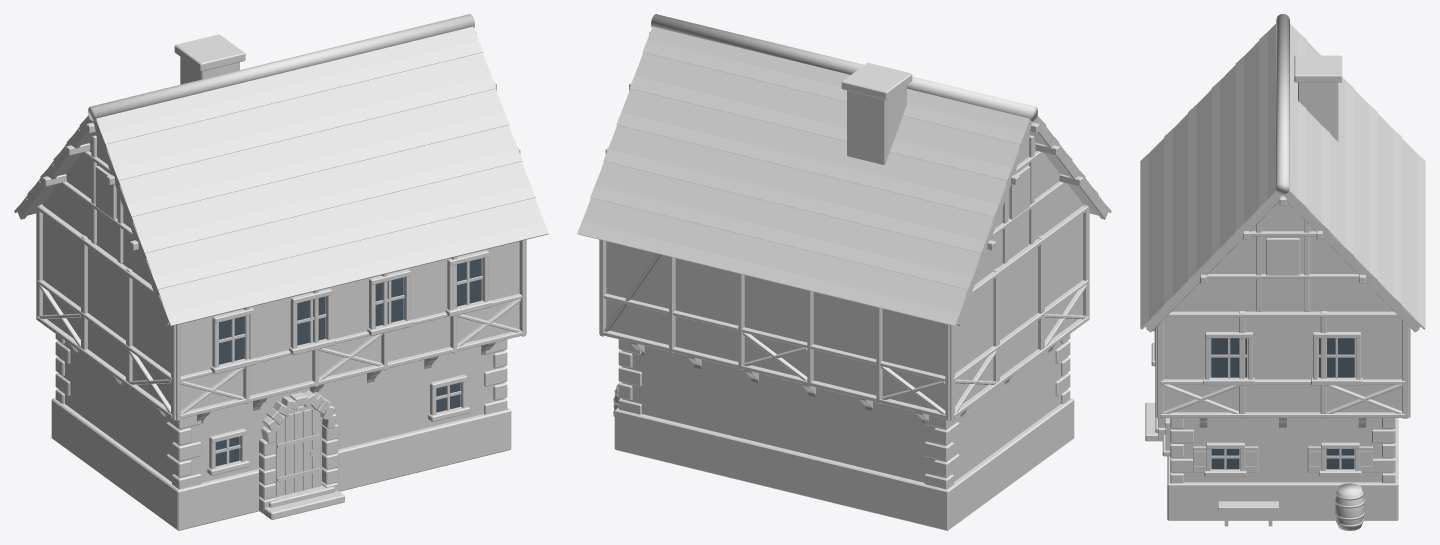
The model's file is col_06_tisserand_galerie.fbx.
The picture shows the model from 3 angles, left to right: view 1: azimuth 30°, elevation 25°; view 2: azimuth 150°, elevation 25°; view 3: azimuth 270°, elevation 25°; orthographic projection. The views are drawn at different scales.
Parts seen in each view (by area): view 1: col_06_tisserand_galerie_LOD0; view 2: col_06_tisserand_galerie_LOD0; view 3: col_06_tisserand_galerie_LOD0.
Part boxes in pixels (box(x1,y1,x2,y2)): col_06_tisserand_galerie_LOD0: box(14, 14, 548, 530); col_06_tisserand_galerie_LOD0: box(577, 14, 1111, 530); col_06_tisserand_galerie_LOD0: box(1140, 14, 1425, 530).
Size of what is drawn, in the model's own units: 8.84 by 8.59 by 6.19.
